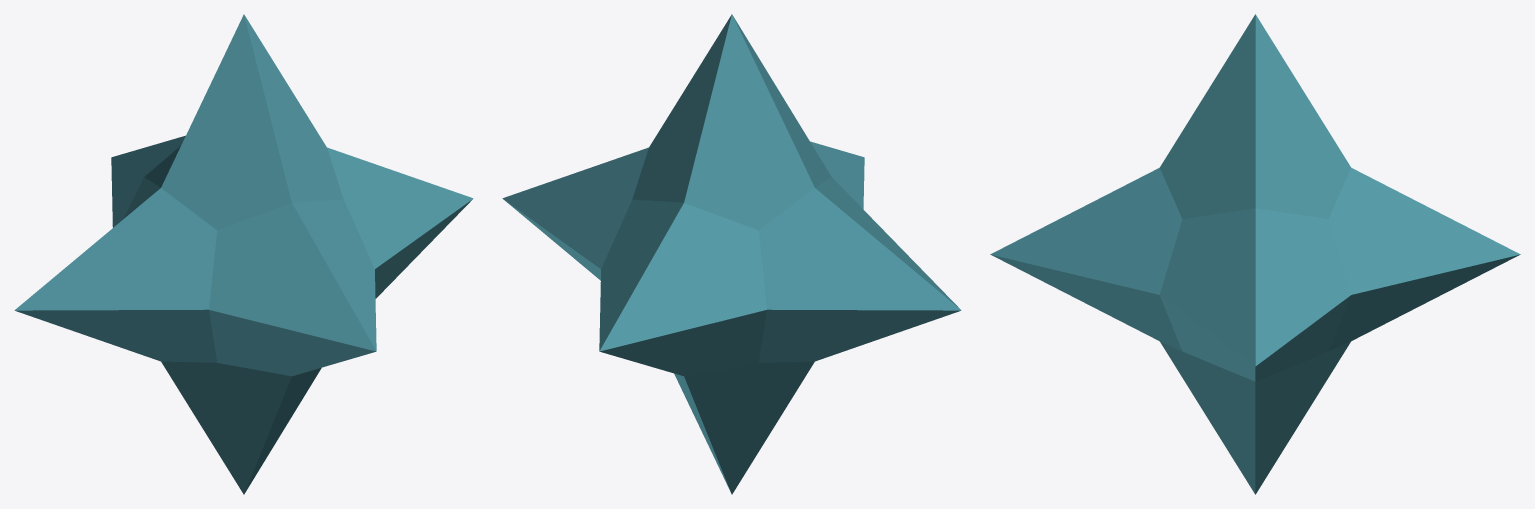
The model's file is SM_magic.fbx.
3 views of the same model, side by side, from view 1: azimuth 30°, elevation 25°; view 2: azimuth 150°, elevation 25°; view 3: azimuth 270°, elevation 25° (orthographic).
Visible parts, largest first — view 1: SM_magic; view 2: SM_magic; view 3: SM_magic.
Part boxes in pixels (box(x1,y1,x2,y2)): SM_magic: box(14, 14, 473, 494); SM_magic: box(502, 14, 961, 494); SM_magic: box(990, 14, 1520, 494).
Size of the model in its own units: 0.3595 by 0.3595 by 0.3595.
